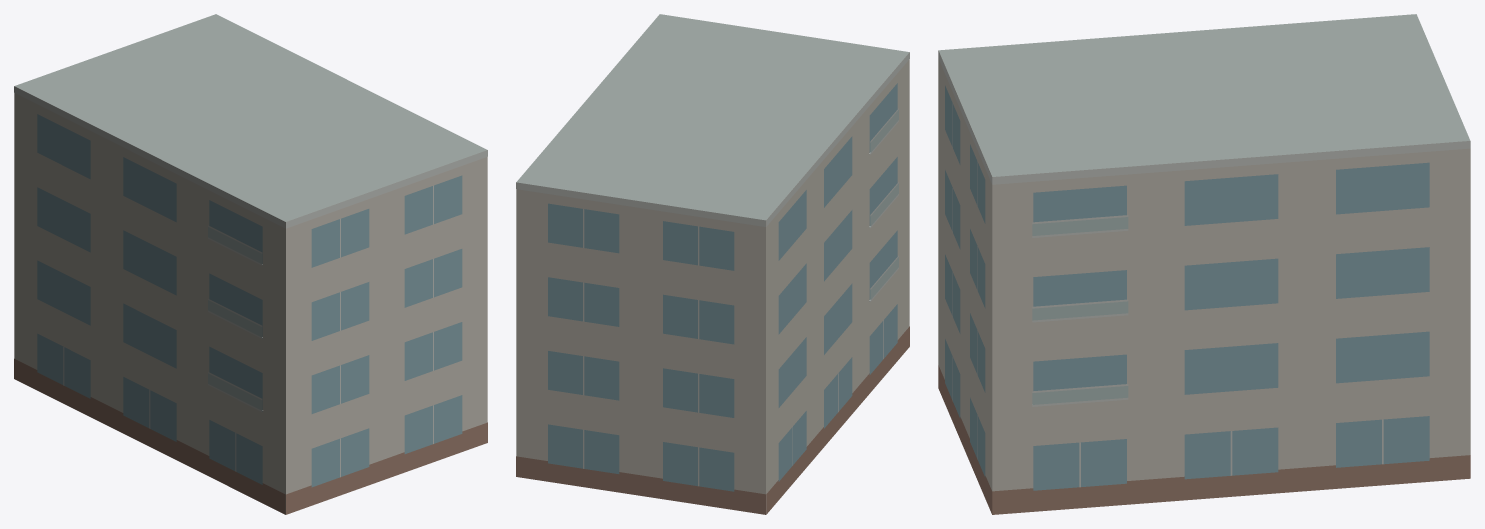
Rendered from residential-2b0aa9a7-6174-4ed6-8b5a-bd7ffdd6ab35.glb.
The picture shows the model from 3 angles, left to right: view 1: azimuth 30°, elevation 25°; view 2: azimuth 150°, elevation 25°; view 3: azimuth 270°, elevation 25°; orthographic projection. The views are drawn at different scales.
Parts seen in each view (by area): view 1: residential-2b0aa9a7-6174-4ed6-8b5a-bd7ffdd6ab35.tmp; view 2: residential-2b0aa9a7-6174-4ed6-8b5a-bd7ffdd6ab35.tmp; view 3: residential-2b0aa9a7-6174-4ed6-8b5a-bd7ffdd6ab35.tmp.
Boxes of the visible parts, bbox=[...] form: residential-2b0aa9a7-6174-4ed6-8b5a-bd7ffdd6ab35.tmp: bbox=[14, 14, 487, 514]; residential-2b0aa9a7-6174-4ed6-8b5a-bd7ffdd6ab35.tmp: bbox=[516, 14, 909, 514]; residential-2b0aa9a7-6174-4ed6-8b5a-bd7ffdd6ab35.tmp: bbox=[938, 14, 1470, 514].
Size of the model in its own units: 11.09 by 10.7 by 15.28.
